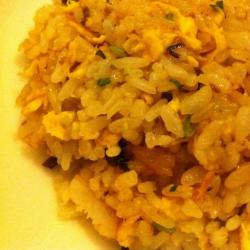rice: (48, 11, 246, 240)
